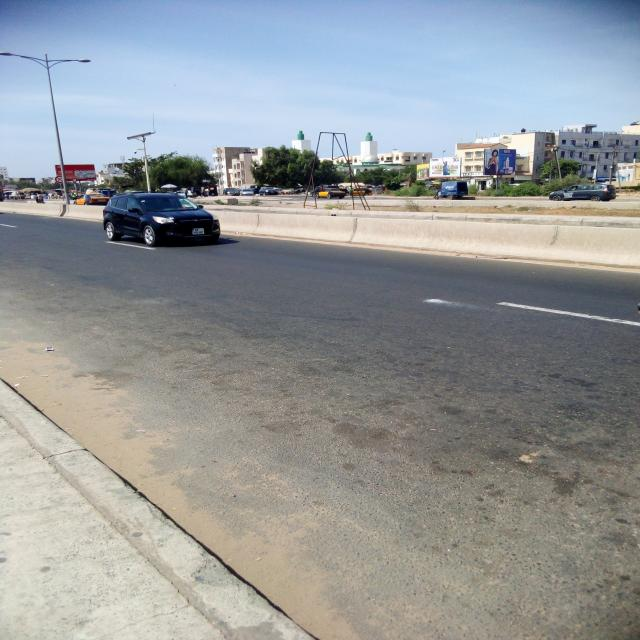moto tricycle: (436, 182, 469, 200)
particulier: (103, 194, 221, 246), (549, 185, 618, 202), (259, 187, 279, 196), (224, 189, 241, 197), (239, 190, 256, 197)
taxi: (314, 186, 348, 200), (76, 195, 111, 206), (351, 186, 374, 197)
